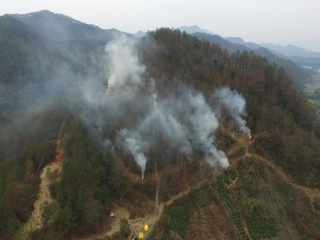smoke: (79, 36, 253, 174)
